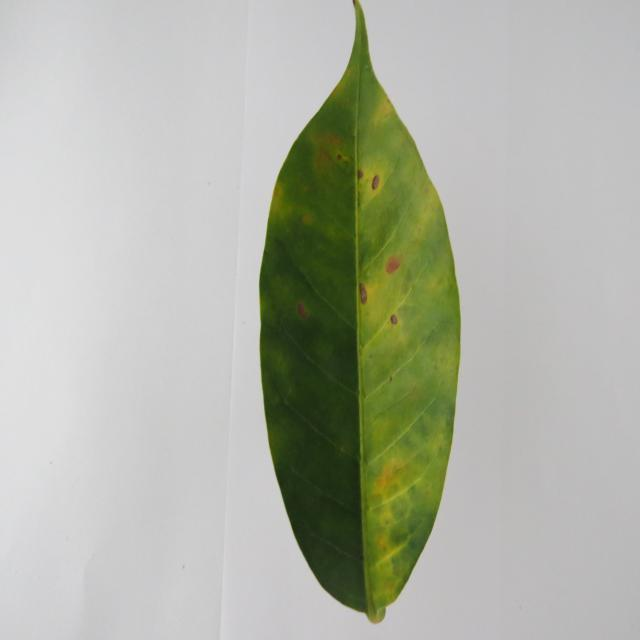DeficienciaNutricional-Nitrogeno: (261, 1, 458, 620)
